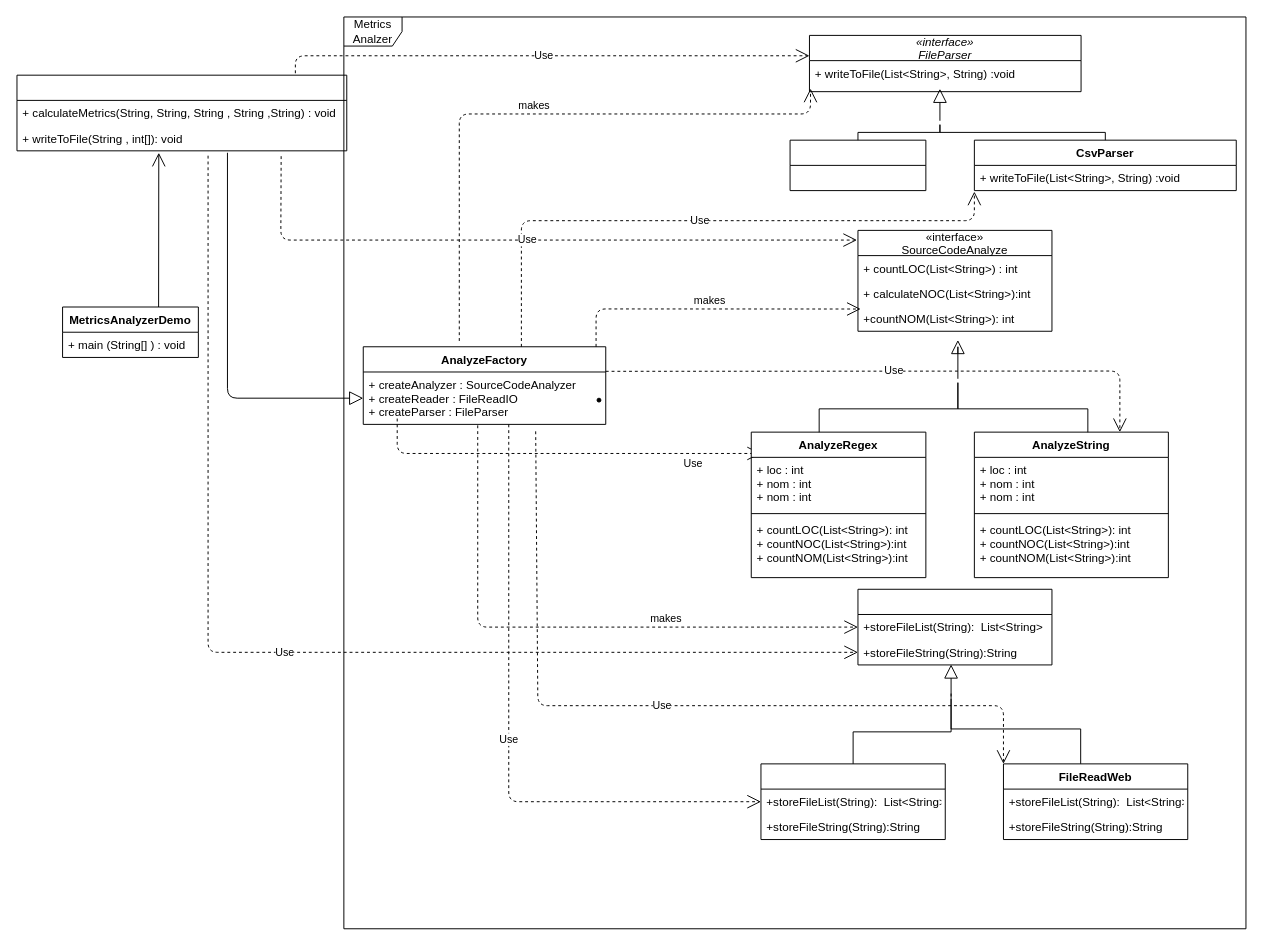
Image size: 1263x946. Some labels were removed from this diagram. Here are the shapes that lost their labels. From the top down, the box of each, then its label:
(16, 74, 347, 151): MetricsAnalyzer
(789, 139, 926, 191): JsonParser
(857, 588, 1052, 665): «interface» FileReadIO
(760, 763, 945, 840): FileReadLocal
